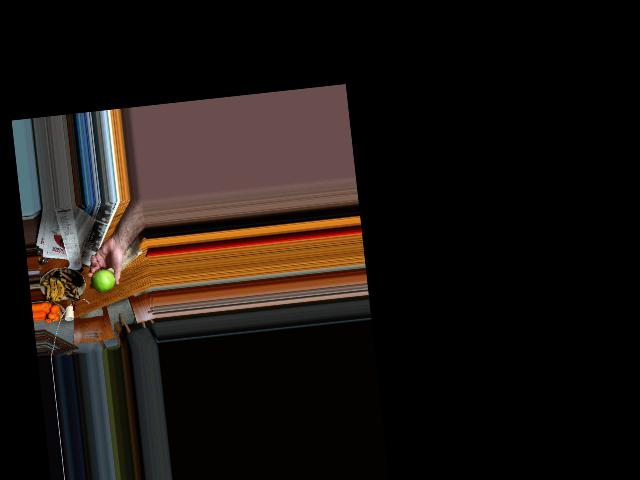apple: (90, 267, 115, 294)
